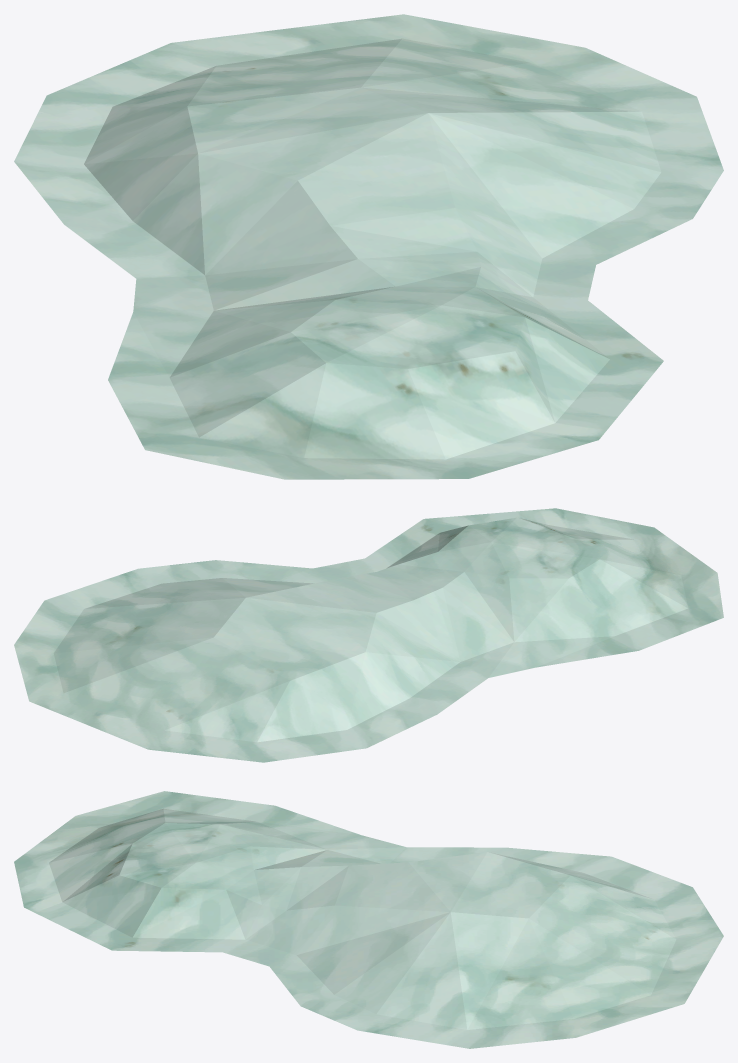
File: small_hill04.fbx
3 views of the same model, one above another, from view 1: azimuth 30°, elevation 25°; view 2: azimuth 150°, elevation 25°; view 3: azimuth 270°, elevation 25° (orthographic). The views are drawn at different scales.
Visible parts, largest first — view 1: obj0.018; view 2: obj0.018; view 3: obj0.018.
Part boxes in pixels (x1,y1,x2,y2): obj0.018: [14, 14, 723, 479]; obj0.018: [14, 508, 723, 762]; obj0.018: [14, 791, 723, 1048].
Size of the model in its own units: 15.45 by 1.2 by 17.97.
